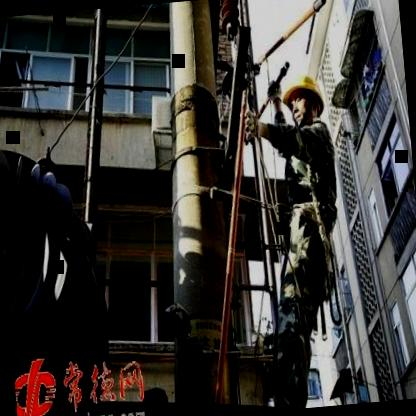helmet: (279, 73, 326, 133)
